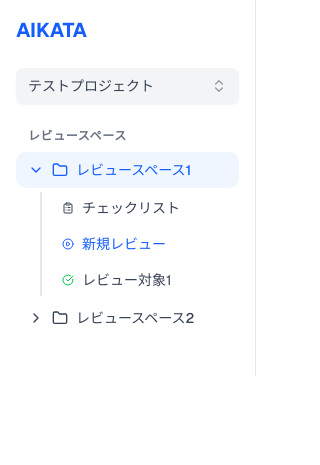
Scenario: Sidebar › 新規レビューリンク › 正常系 › 別のレビュースペースを展開すると、そのスペースの新規レビューリンクが表示されること
// space-2を展開
Click the button "レビュースペース2": click(128, 318) [16,300,239,336]
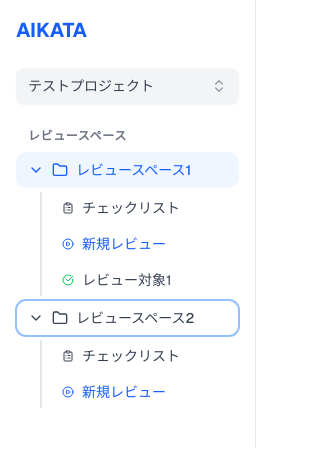
Now the text "新規レビュー" is shown 2 times, box [82,234,166,254]; [82,382,166,402]
